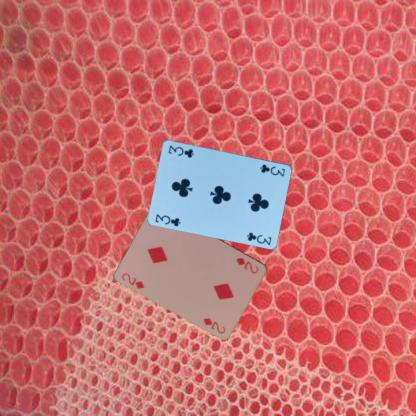2d: (119, 270, 146, 290), (234, 255, 260, 274)
3c: (153, 211, 182, 228), (258, 162, 286, 178)
